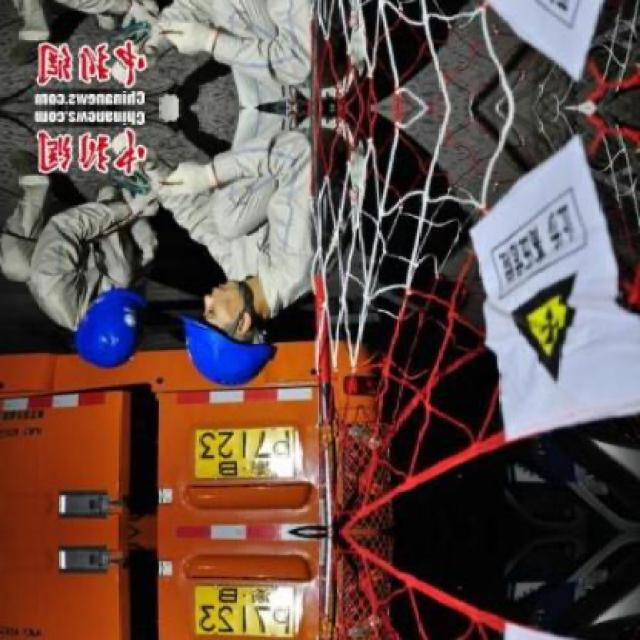con casco: (180, 248, 310, 390), (43, 260, 168, 390)
